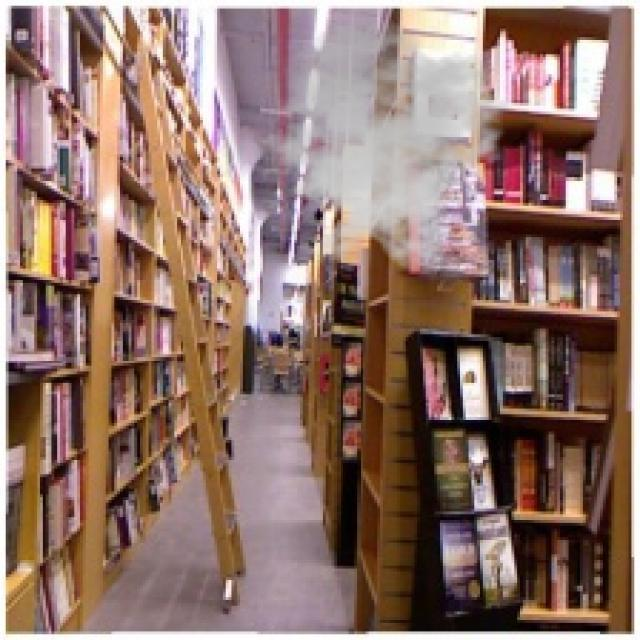Smoke: (242, 17, 514, 274)
